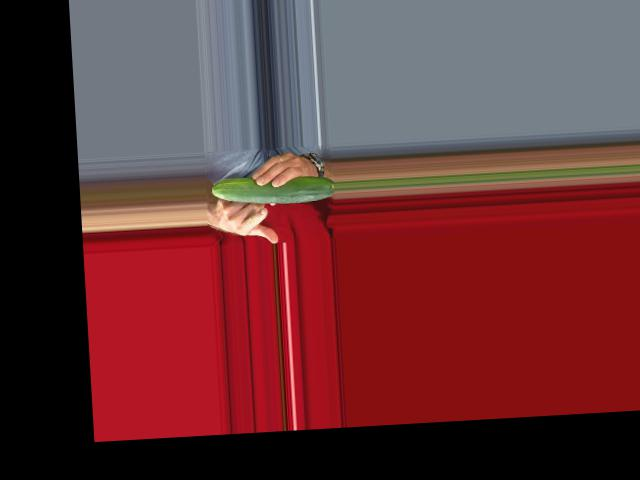cucumber: (211, 171, 335, 207)
